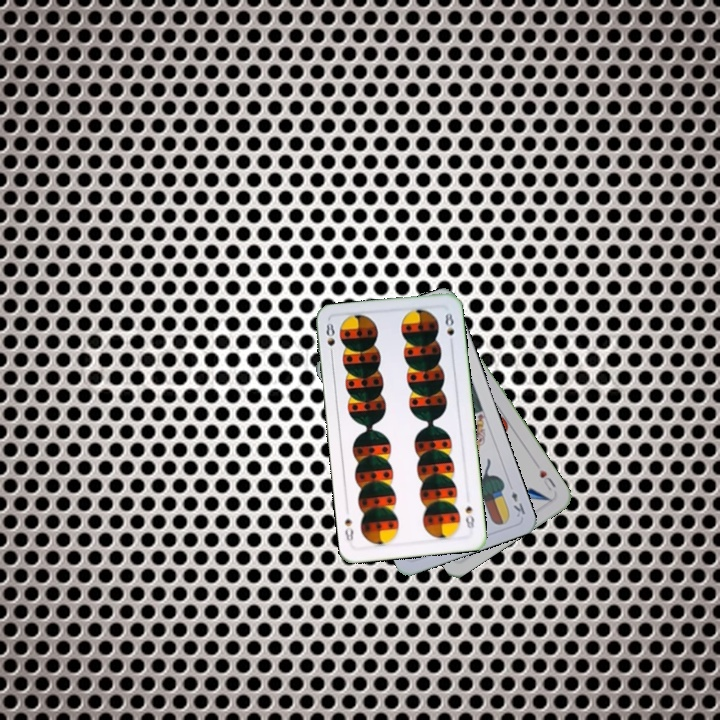EK: (507, 487, 528, 519)
HU: (535, 465, 558, 493)
S8: (322, 319, 337, 360), (461, 502, 477, 534)
